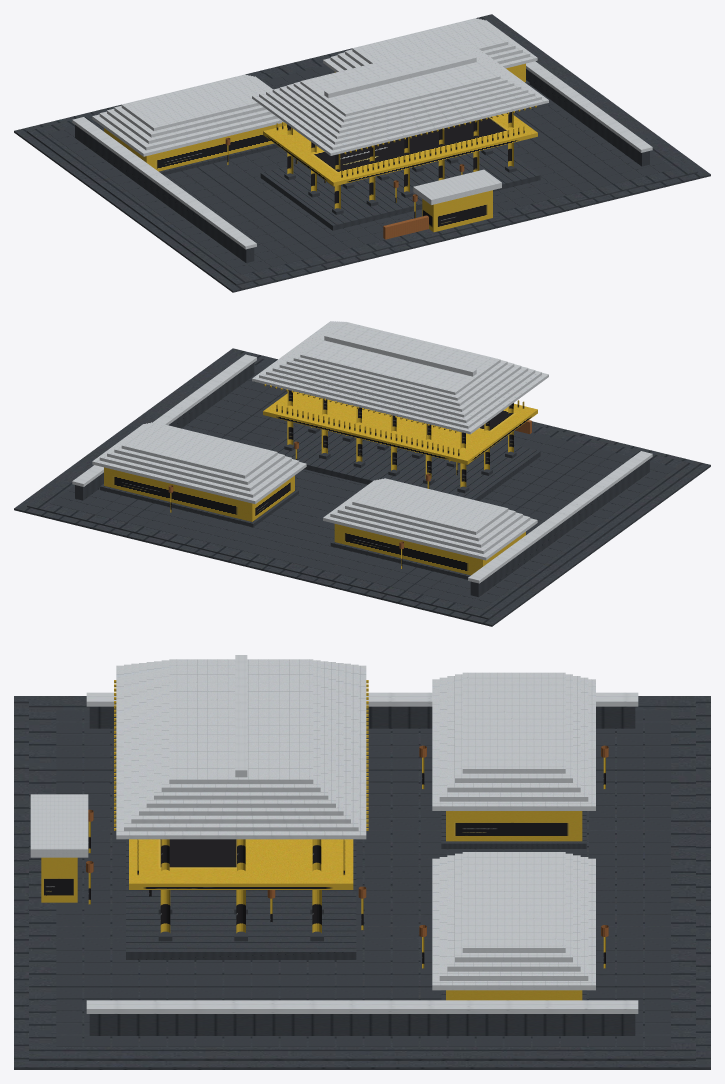
The picture shows the model from 3 angles, top to bottom: view 1: azimuth 30°, elevation 25°; view 2: azimuth 150°, elevation 25°; view 3: azimuth 270°, elevation 25°; orthographic projection. The views are drawn at different scales.
Visible parts, largest first — view 1: 28185_01_21998_006_01__hanok_courtyard, 28185_01_21998_006_03__paljak_giwa_roof, 28185_01_21998_006_02__pine_columns_beams, 28185_01_21998_006_04__dancheong_gate_sign; view 2: 28185_01_21998_006_01__hanok_courtyard, 28185_01_21998_006_03__paljak_giwa_roof, 28185_01_21998_006_02__pine_columns_beams; view 3: 28185_01_21998_006_01__hanok_courtyard, 28185_01_21998_006_03__paljak_giwa_roof, 28185_01_21998_006_02__pine_columns_beams, 28185_01_21998_006_04__dancheong_gate_sign.
Boxes of the visible parts, <box> form: 28185_01_21998_006_01__hanok_courtyard: <box>14,14,710,292</box>; 28185_01_21998_006_03__paljak_giwa_roof: <box>72,18,652,249</box>; 28185_01_21998_006_02__pine_columns_beams: <box>104,63,537,232</box>; 28185_01_21998_006_04__dancheong_gate_sign: <box>225,138,464,239</box>; 28185_01_21998_006_01__hanok_courtyard: <box>14,348,710,626</box>; 28185_01_21998_006_03__paljak_giwa_roof: <box>72,321,652,583</box>; 28185_01_21998_006_02__pine_columns_beams: <box>104,384,537,575</box>; 28185_01_21998_006_01__hanok_courtyard: <box>14,696,710,1069</box>; 28185_01_21998_006_03__paljak_giwa_roof: <box>30,655,638,1013</box>; 28185_01_21998_006_02__pine_columns_beams: <box>41,680,605,1000</box>; 28185_01_21998_006_04__dancheong_gate_sign: <box>86,745,608,936</box>.
Size of the model in its own units: 58 by 12.5 by 46.
Materials: 4 (4 with a texture image).
